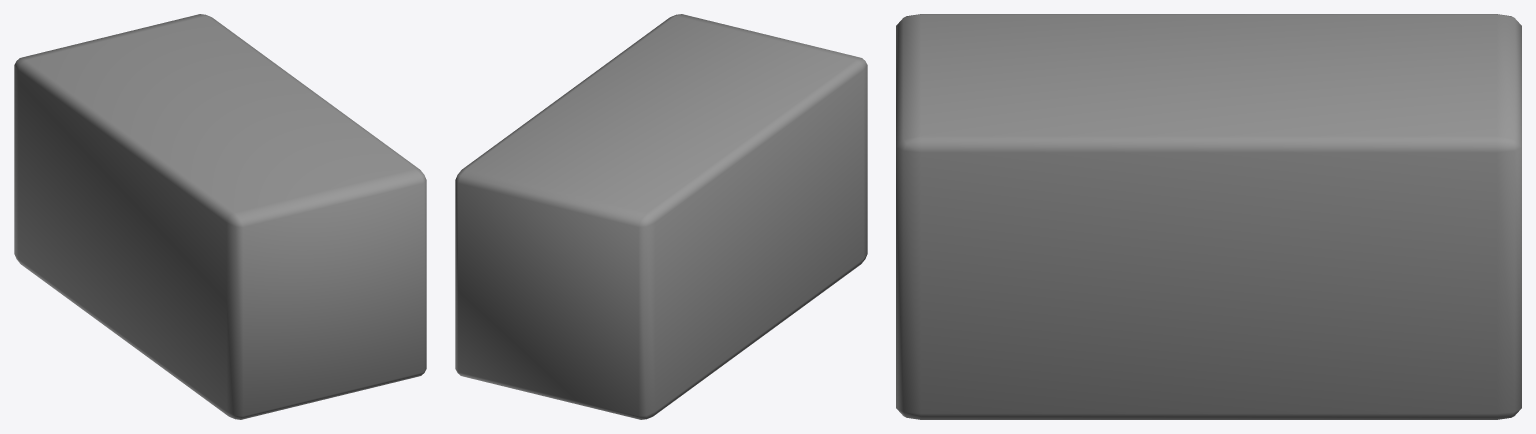
File: HouseCube_08.fbx
The picture shows the model from 3 angles, left to right: view 1: azimuth 30°, elevation 25°; view 2: azimuth 150°, elevation 25°; view 3: azimuth 270°, elevation 25°; orthographic projection. The views are drawn at different scales.
Parts seen in each view (by area): view 1: HouseCube_08; view 2: HouseCube_08; view 3: HouseCube_08.
Boxes of the visible parts, <box> form: HouseCube_08: <box>14,14,426,419</box>; HouseCube_08: <box>455,14,867,419</box>; HouseCube_08: <box>896,14,1521,419</box>.
Size of the model in its own units: 0.5 by 0.5 by 1.
